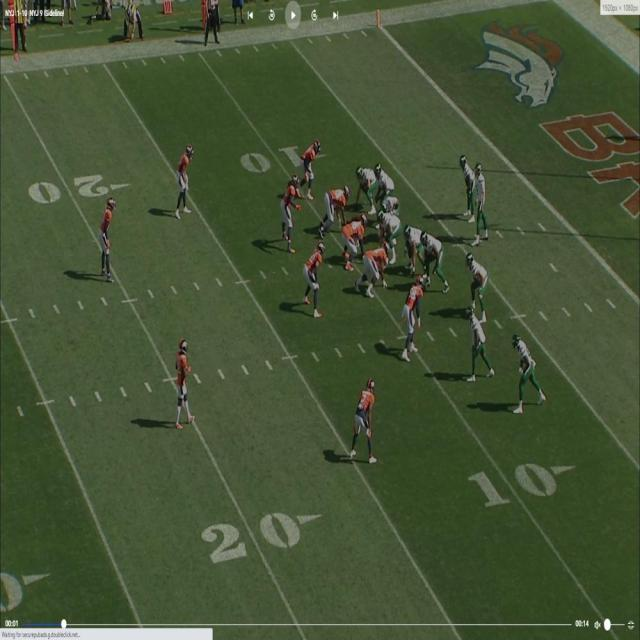center: (377, 209, 402, 257)
db: (353, 377, 378, 466), (178, 338, 192, 424), (177, 144, 193, 216), (103, 192, 116, 278)
lb: (404, 277, 425, 357), (304, 243, 323, 307), (282, 173, 297, 248), (302, 142, 318, 192)
qb: (473, 165, 488, 242)
skill: (510, 336, 544, 410), (466, 306, 492, 380), (467, 253, 487, 306), (356, 164, 374, 210), (459, 153, 473, 211)
